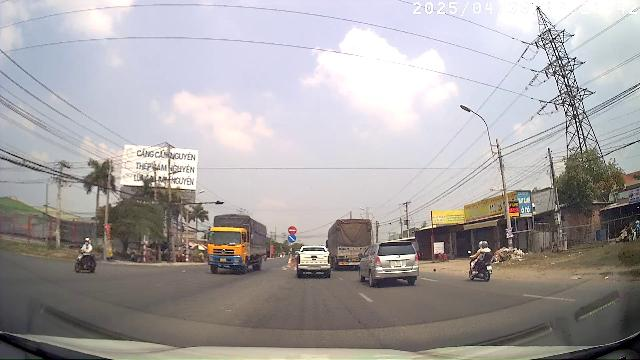102-cam-di-nguoc-chieu: (288, 226, 297, 234)
302a-huong-phai-di-vong-chuong-ngai-vat-1: (288, 234, 296, 242)
